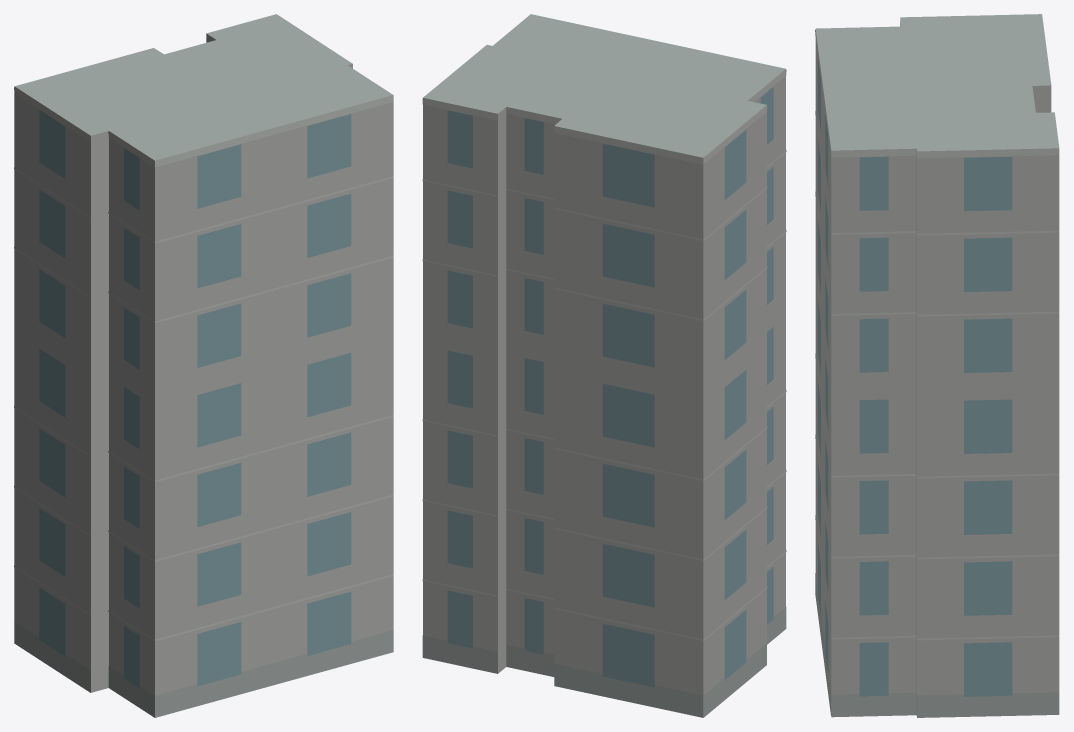
Rendered from survey-upis-32811038.glb.
The picture shows the model from 3 angles, left to right: view 1: azimuth 30°, elevation 25°; view 2: azimuth 150°, elevation 25°; view 3: azimuth 270°, elevation 25°; orthographic projection.
Parts seen in each view (by area): view 1: survey-upis-32811038.tmp; view 2: survey-upis-32811038.tmp; view 3: survey-upis-32811038.tmp.
Part boxes in pixels (left/top/right/bottom): survey-upis-32811038.tmp: left=14, top=14, right=393, bottom=717; survey-upis-32811038.tmp: left=422, top=14, right=786, bottom=717; survey-upis-32811038.tmp: left=815, top=14, right=1059, bottom=717.
Bounding box in the file's own units: 10.33 × 19.8 × 7.75.
